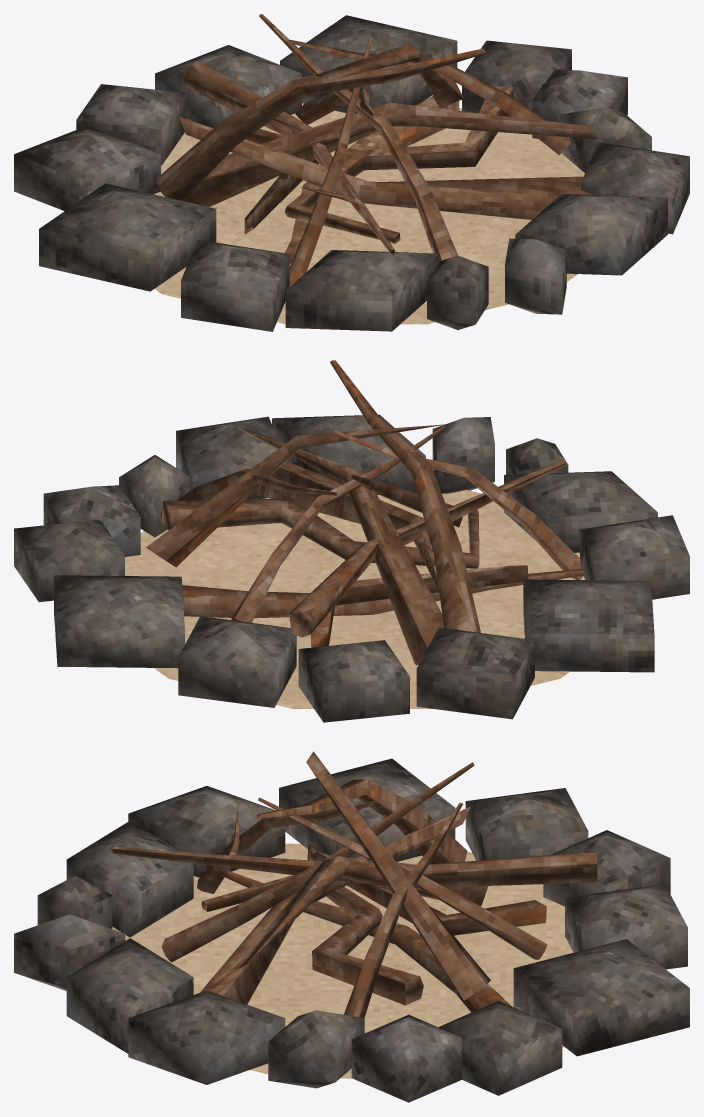
The model's file is Campfire.fbx.
3 renders of one model, top to bottom at view 1: azimuth 30°, elevation 25°; view 2: azimuth 150°, elevation 25°; view 3: azimuth 270°, elevation 25°, orthographic. The views are drawn at different scales.
Visible parts, largest first — view 1: Campfire; view 2: Campfire; view 3: Campfire.
Part boxes in pixels (x1=…): Campfire: x1=14, y1=14, x2=689, y2=331; Campfire: x1=14, y1=360, x2=689, y2=722; Campfire: x1=14, y1=751, x2=689, y2=1102.
Size of the model in its own units: 210 by 63.47 by 196.
Materials: 1 (1 with a texture image).
